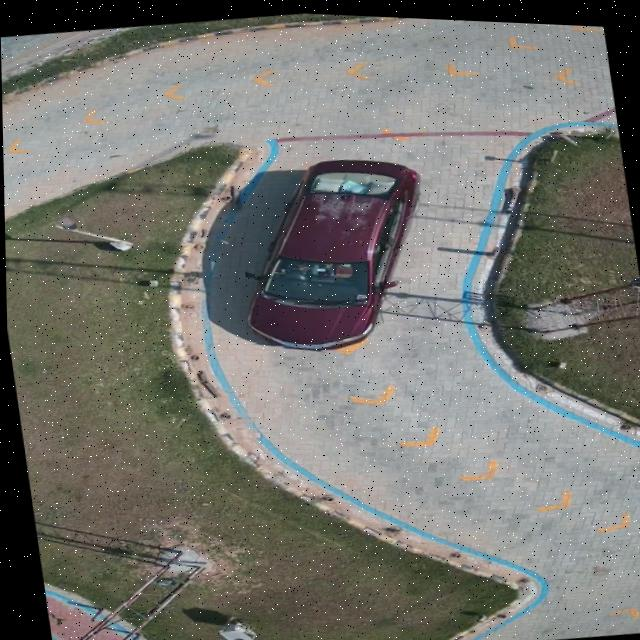car: (240, 156, 415, 348)
